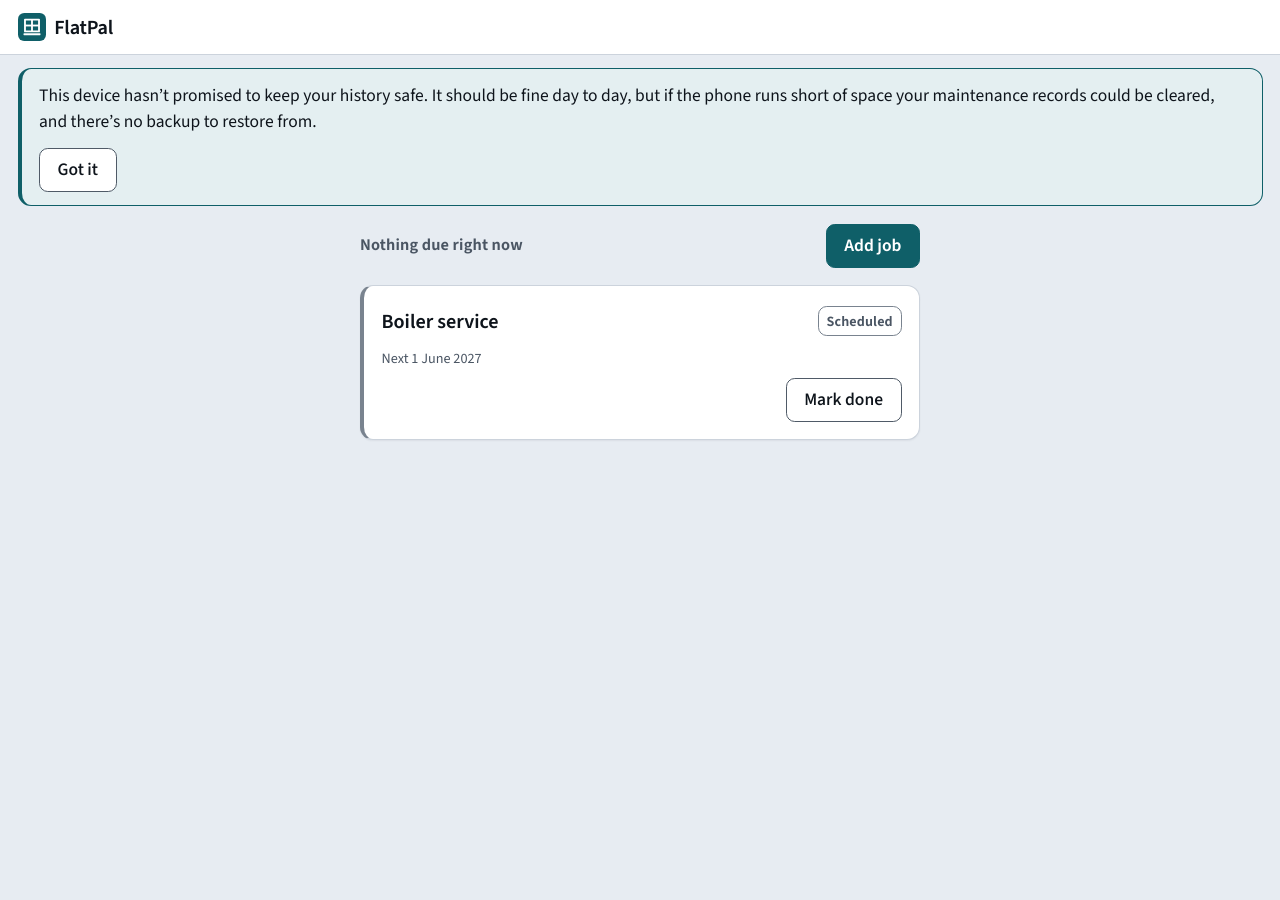
Test: removing one completion from a job’s history › offers a way to remove each entry, and has removed nothing by the time it asks
The width and height of the screenshot is (1280, 900).
Click the button "Boiler service" at (440, 321), box 382,299 -> 499,343
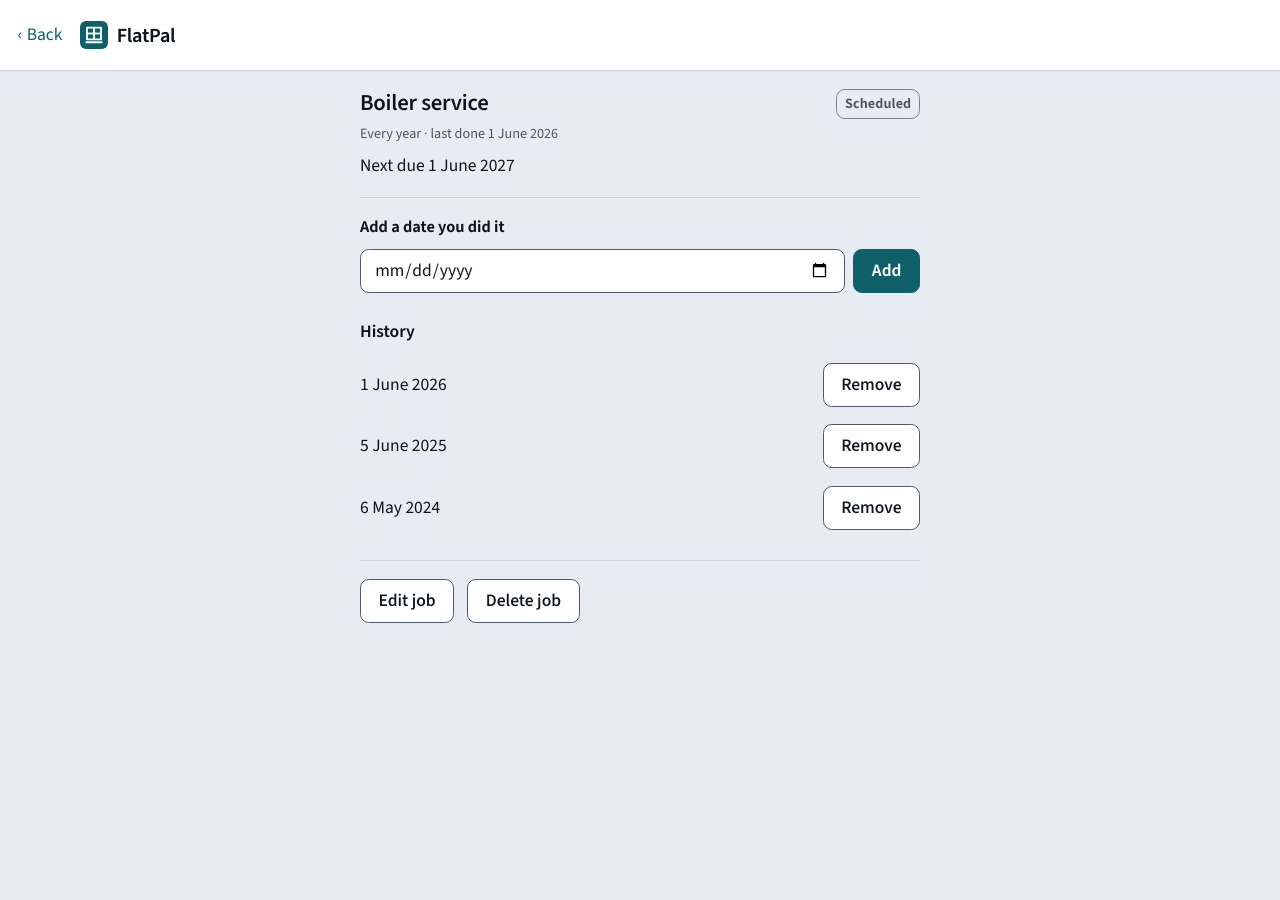
Expected: the number of buttons named "Remove the completion on" is 3
Click the button named "Remove the completion on 5 June 2025" at (871, 446), box 823,424 -> 920,468
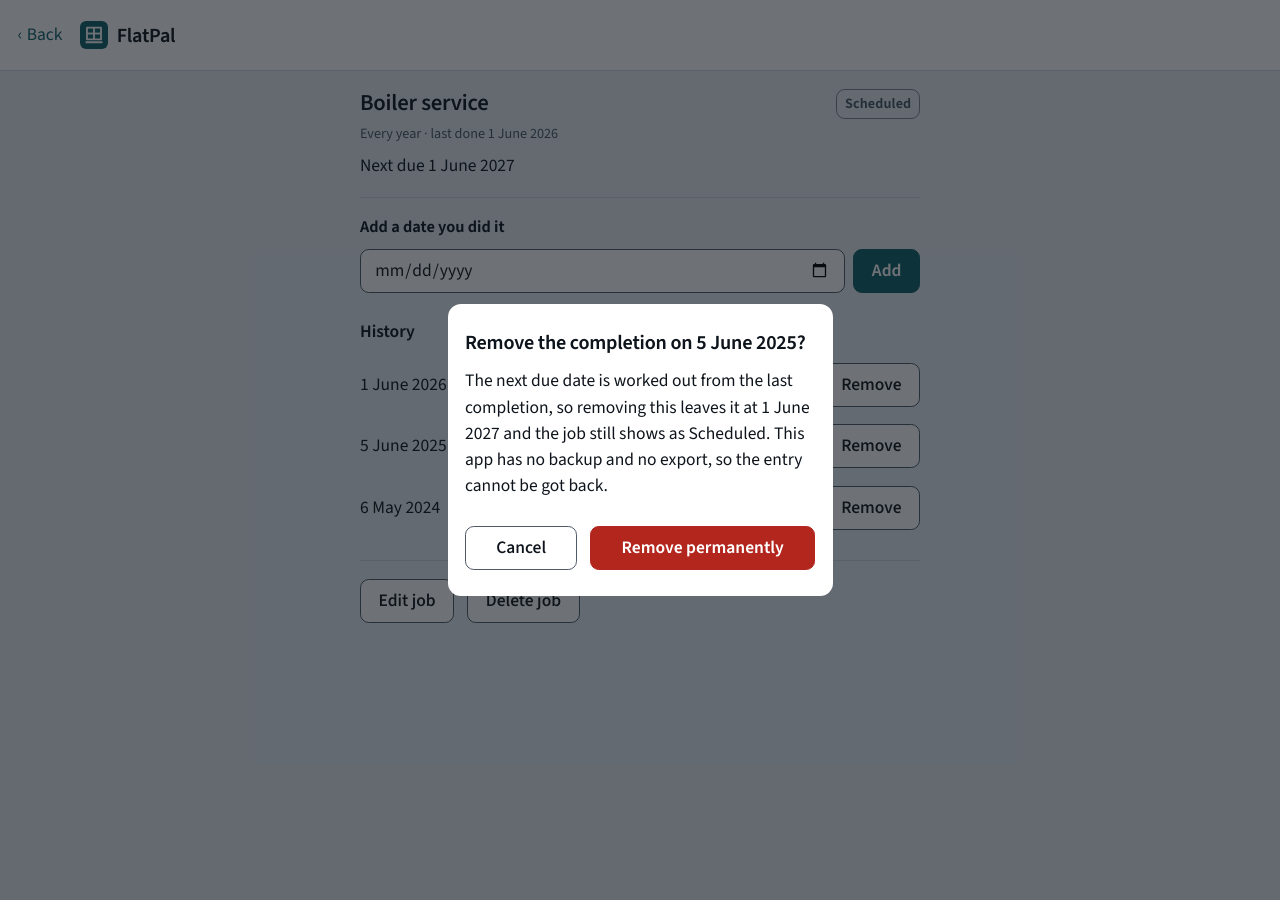
Expected: the dialog "Remove the completion on 5 June 2025?" is shown, 448,304 -> 832,596
